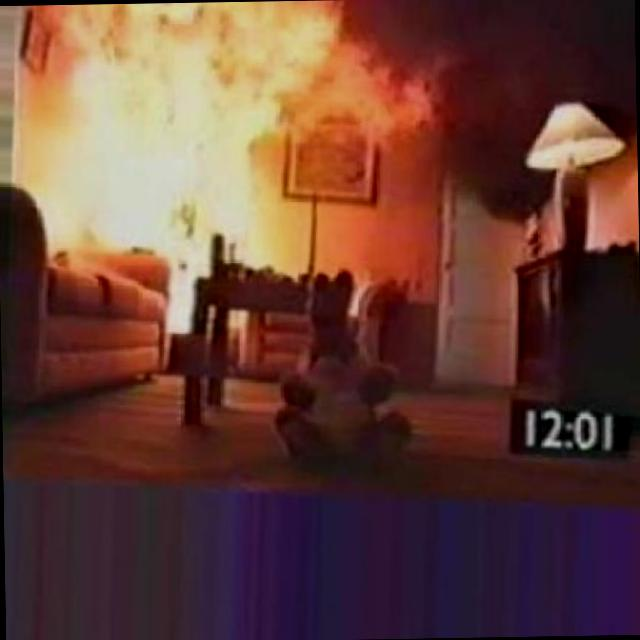fire: (0, 2, 379, 351)
